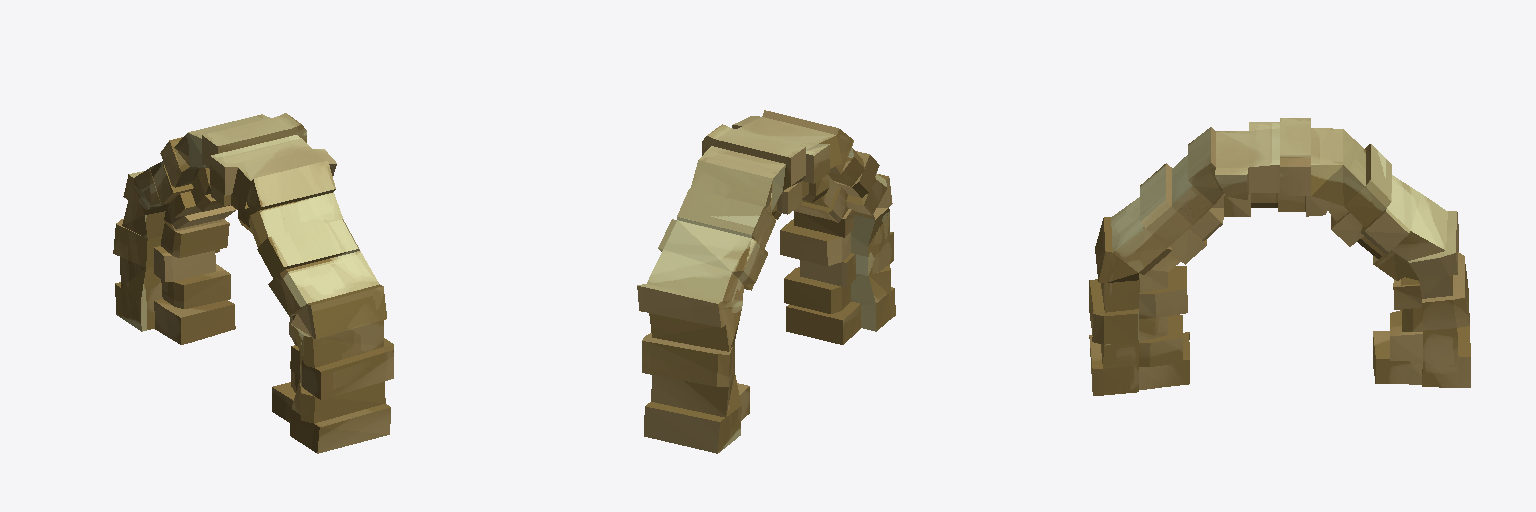
The picture shows the model from 3 angles: view 1: azimuth 30°, elevation 25°; view 2: azimuth 150°, elevation 25°; view 3: azimuth 270°, elevation 25°; orthographic projection.
Visible parts, largest first — view 1: Cube; view 2: Cube; view 3: Cube.
Part boxes in pixels (bbox=[...]): Cube: bbox=[113, 113, 393, 453]; Cube: bbox=[637, 110, 895, 453]; Cube: bbox=[1089, 118, 1470, 395].
Bounding box in the file's own units: 6.21 × 13.76 × 19.77.
Materials: 1 (1 with a texture image).